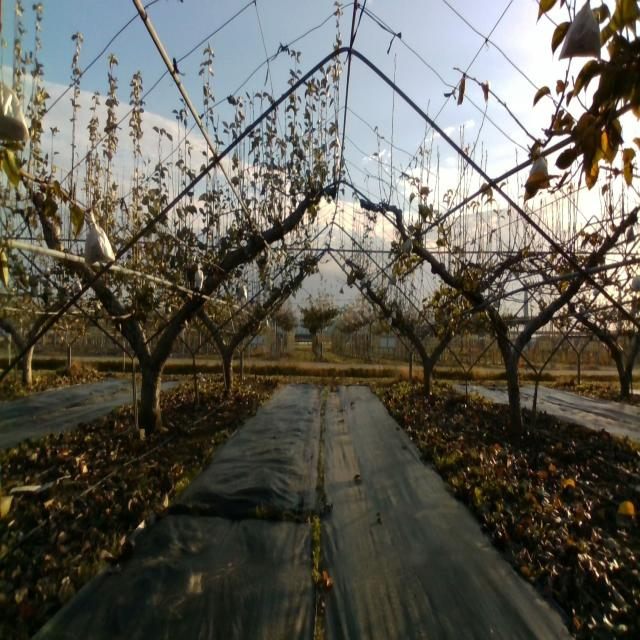pearbags: (558, 0, 603, 64), (85, 208, 116, 268), (529, 144, 549, 183), (400, 236, 413, 259), (194, 262, 204, 290)
